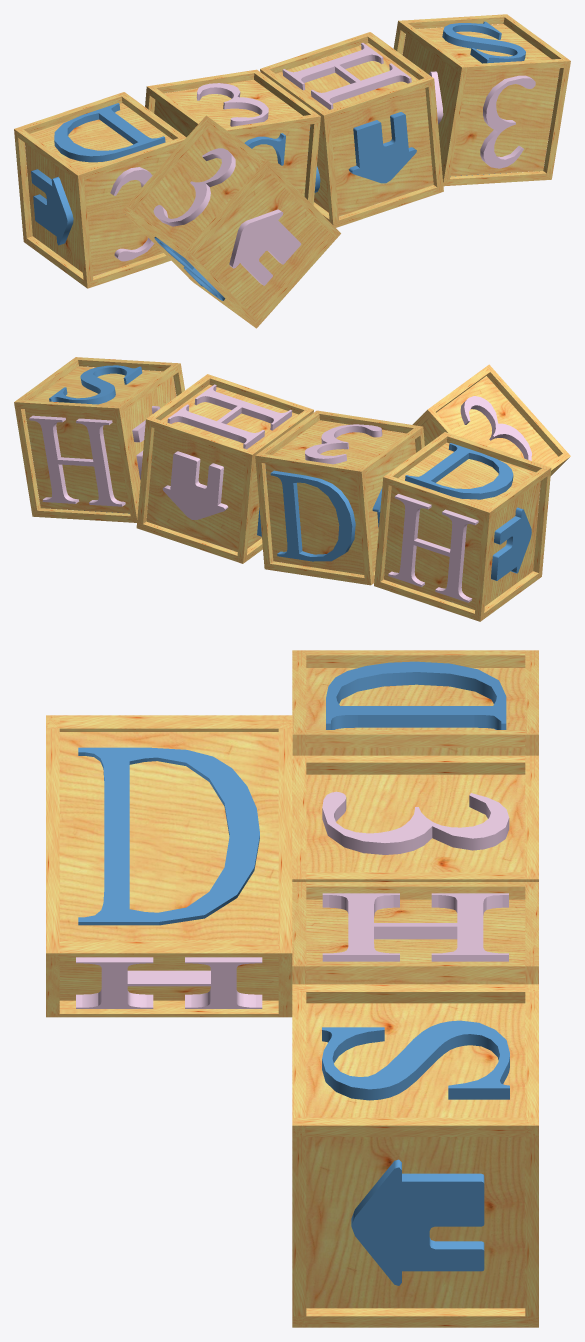
File: sweethome3d-lucapresidente-letter-cubes.glb
3 views of the same model, one above another, from view 1: azimuth 30°, elevation 25°; view 2: azimuth 150°, elevation 25°; view 3: azimuth 270°, elevation 25° (orthographic). The views are drawn at different scales.
Parts seen in each view (by area): view 1: Box076_90, Box051_59, Box013_2, Box038_40, Box025_21, Line056_42, Text012_45, Line061_93, Text002_3, Line052_4, Text013_58, Text015_63 (+39 smaller); view 2: Box013_2, Box025_21, Box051_59, Box038_40, Box076_90, Text004_7, Text016_64, Text006_22, Line057_43, Text012_45, Text002_3, Line052_4 (+36 smaller); view 3: Box051_59, Box076_90, Box025_21, Text018_91, Line058_61, Box038_40, Text013_58, Text002_3, Box013_2, Text012_45, Text020_95, Text007_25 (+26 smaller).
Boxes of the visible parts, left/top/right/bottom form: Box076_90: left=134, top=127, right=328, bottom=315; Box051_59: left=402, top=24, right=559, bottom=176; Box013_2: left=25, top=103, right=175, bottom=276; Box038_40: left=276, top=43, right=433, bottom=216; Box025_21: left=154, top=79, right=310, bottom=196; Line056_42: left=348, top=112, right=416, bottom=183; Text012_45: left=282, top=42, right=411, bottom=109; Line061_93: left=229, top=209, right=301, bottom=285; Text002_3: left=54, top=103, right=165, bottom=162; Line052_4: left=31, top=169, right=73, bottom=245; Text013_58: left=442, top=21, right=525, bottom=63; Text015_63: left=480, top=75, right=535, bottom=168; Box013_2: left=384, top=442, right=540, bottom=609; Box025_21: left=265, top=420, right=415, bottom=574; Box051_59: left=24, top=366, right=176, bottom=513; Box038_40: left=146, top=384, right=298, bottom=552; Box076_90: left=422, top=376, right=558, bottom=465; Text004_7: left=388, top=494, right=478, bottom=602; Text016_64: left=29, top=415, right=125, bottom=506; Text006_22: left=270, top=470, right=355, bottom=561; Line057_43: left=162, top=451, right=228, bottom=519; Text012_45: left=167, top=384, right=292, bottom=449; Text002_3: left=405, top=443, right=513, bottom=499; Line052_4: left=491, top=507, right=531, bottom=580; Box051_59: left=306, top=1003, right=525, bottom=1308; Box076_90: left=59, top=732, right=278, bottom=1000; Box025_21: left=306, top=774, right=525, bottom=872; Text018_91: left=78, top=747, right=259, bottom=925; Line058_61: left=351, top=1159, right=484, bottom=1285; Box038_40: left=306, top=899, right=525, bottom=984; Text013_58: left=322, top=1020, right=509, bottom=1100; Text002_3: left=326, top=661, right=506, bottom=729; Box013_2: left=306, top=668, right=525, bottom=755; Text012_45: left=322, top=893, right=508, bottom=961; Text020_95: left=76, top=957, right=262, bottom=1008; Text007_25: left=322, top=791, right=509, bottom=854.
Bounding box in the file's own units: 40.09 × 12.68 × 18.
3 materials, 1 textured.
